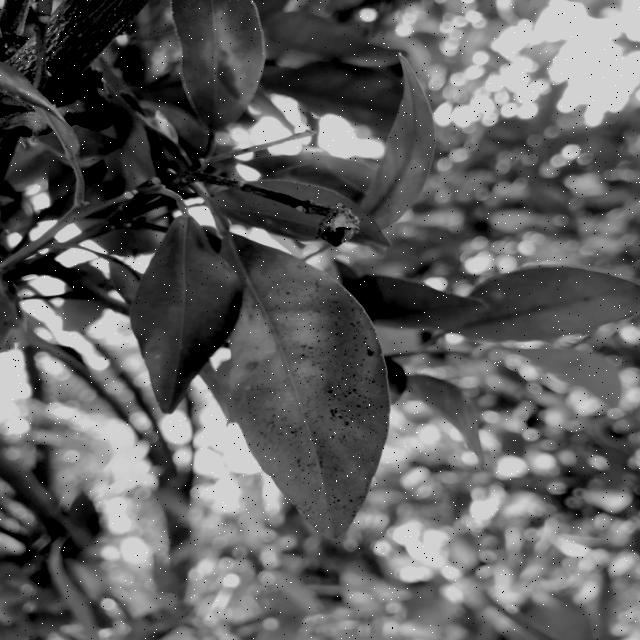melanose: (227, 263, 413, 528)
